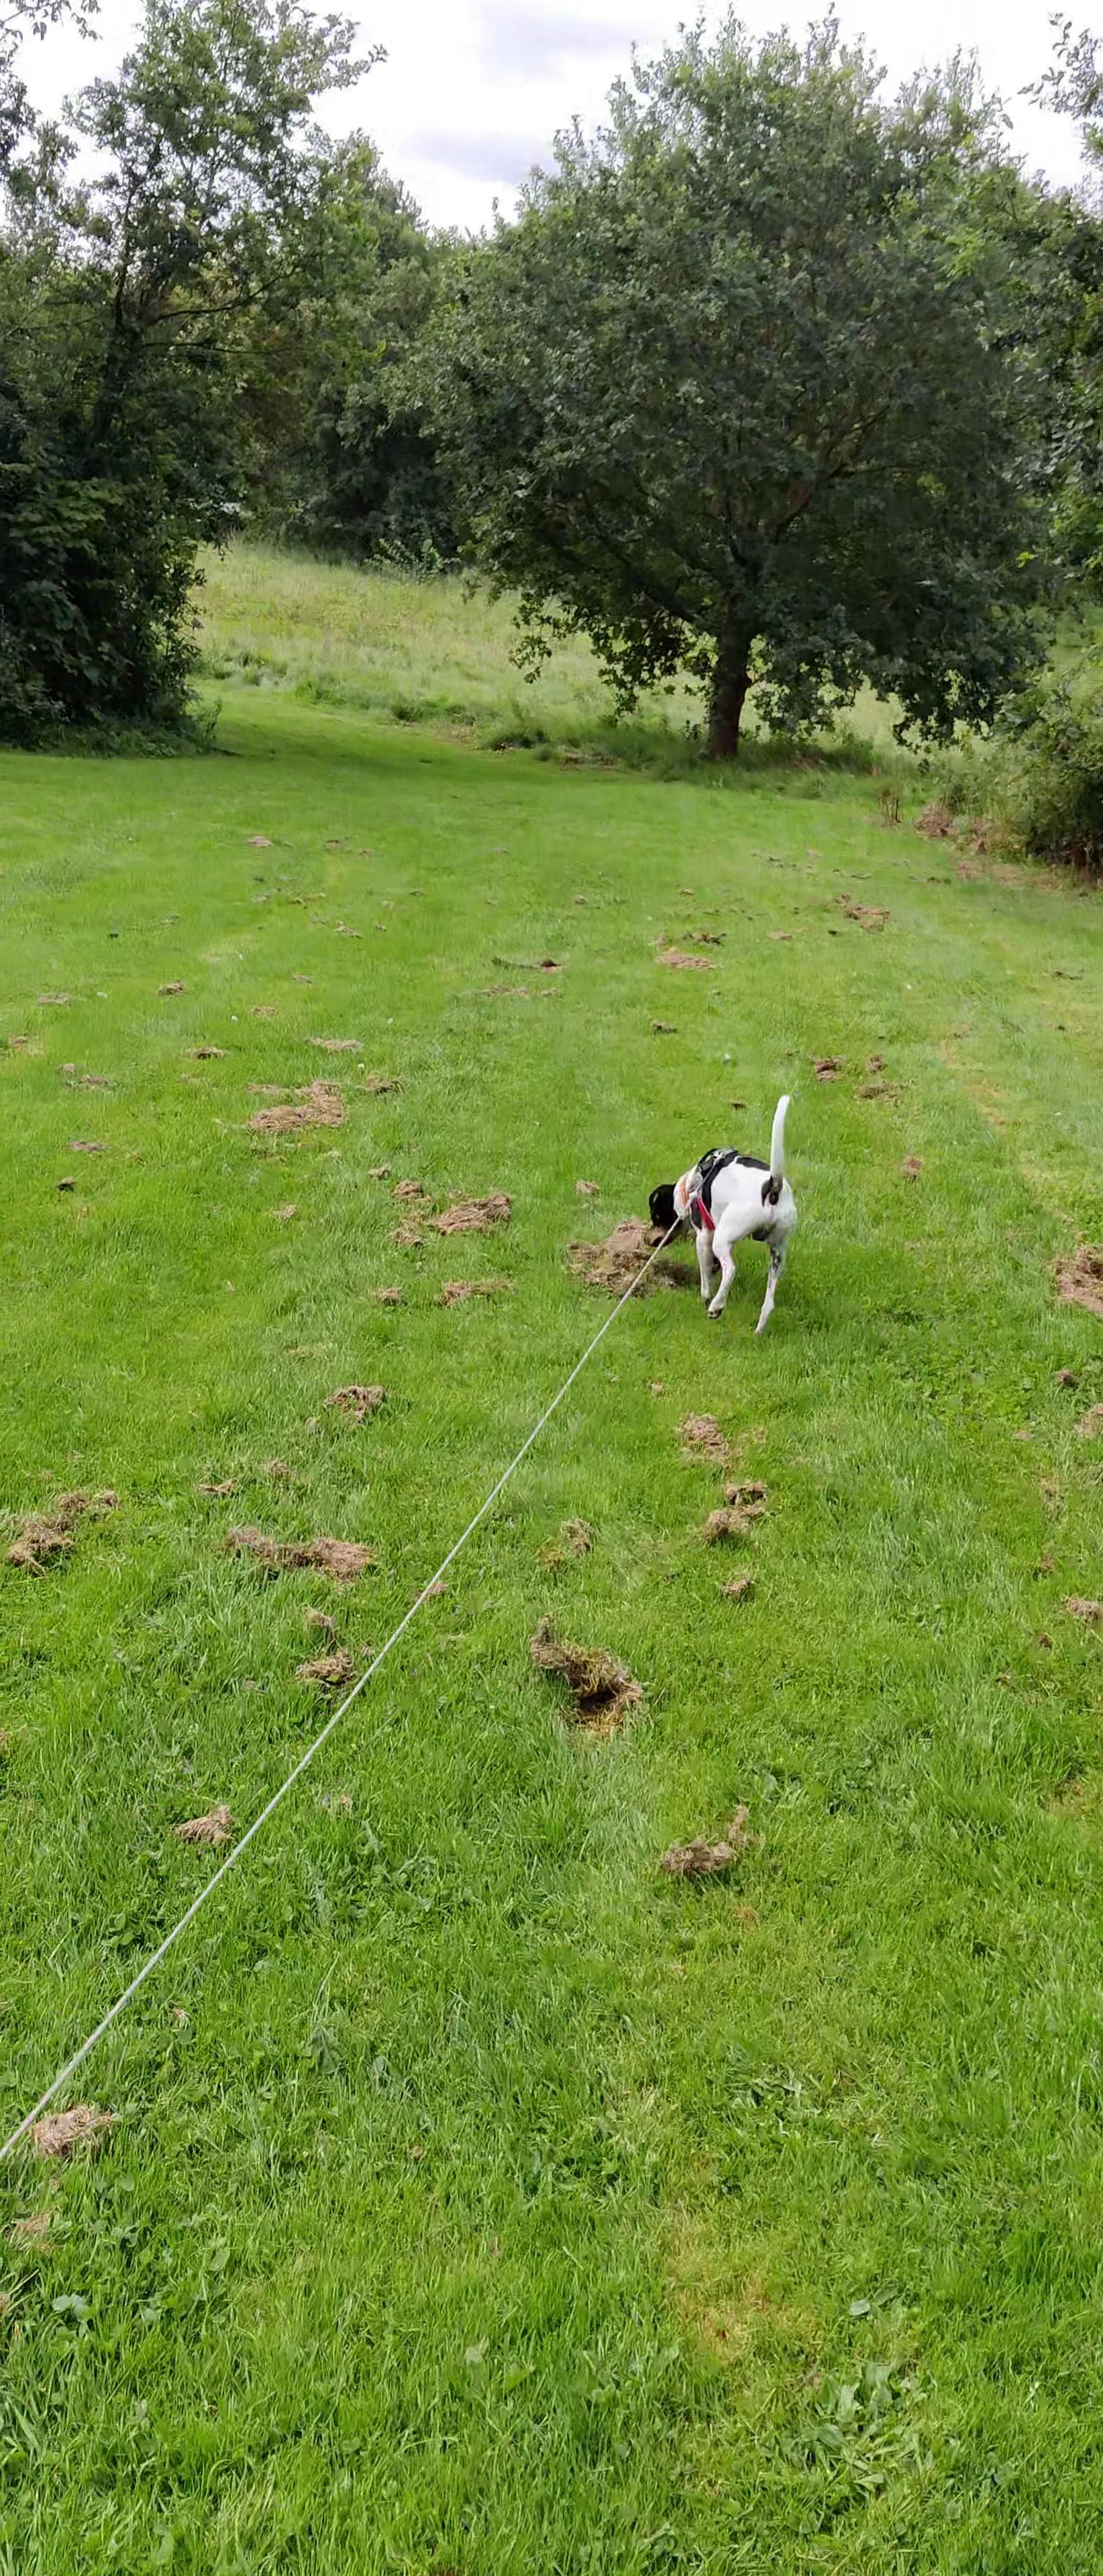Dog: (635, 1088, 804, 1337)
